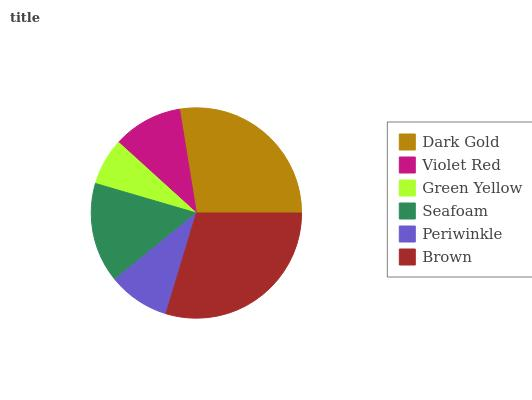legend: (386, 124, 532, 275)
sector: (164, 212, 302, 320), (182, 107, 303, 213), (90, 183, 198, 279), (115, 212, 198, 312), (119, 109, 198, 213), (94, 143, 197, 213)
